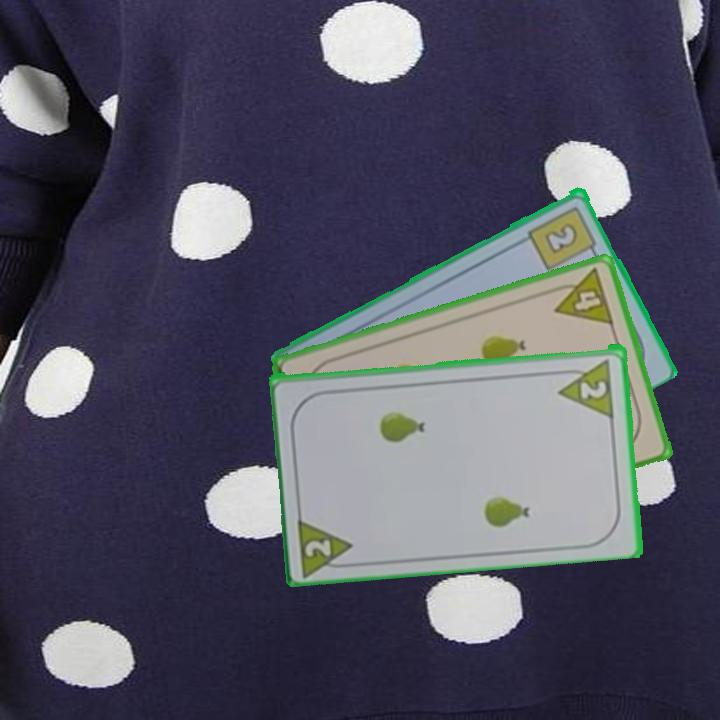2b: (525, 201, 601, 273)
2p: (294, 511, 359, 576), (554, 354, 617, 418)
4p: (545, 265, 617, 328)
